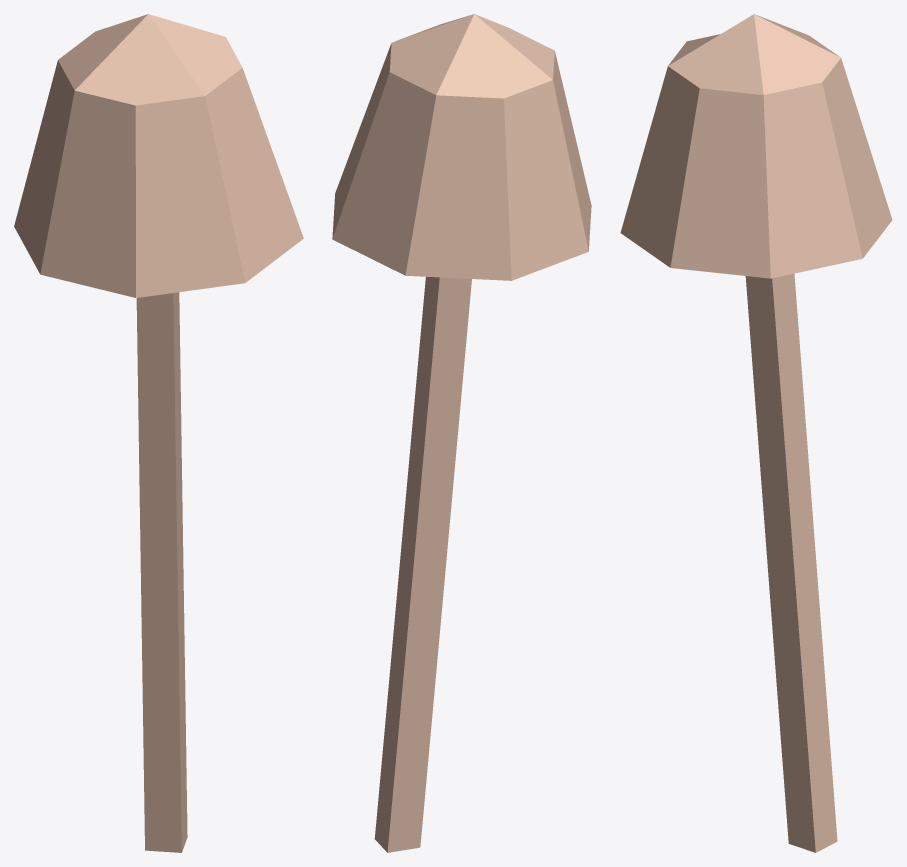
File: Mushroom_b_03.fbx
3 renders of one model, left to right at view 1: azimuth 30°, elevation 25°; view 2: azimuth 150°, elevation 25°; view 3: azimuth 270°, elevation 25°, orthographic. The views are drawn at different scales.
Parts seen in each view (by area): view 1: Mushroom_b_03; view 2: Mushroom_b_03; view 3: Mushroom_b_03.
Boxes of the visible parts, x1,y1,x2,y2 form: Mushroom_b_03: [14, 14, 303, 852]; Mushroom_b_03: [332, 14, 591, 852]; Mushroom_b_03: [620, 14, 892, 852].
Size of the model in its own units: 0.0884 by 0.2893 by 0.0885.
